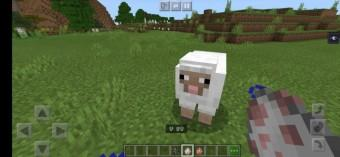sheep: (174, 49, 229, 127)
